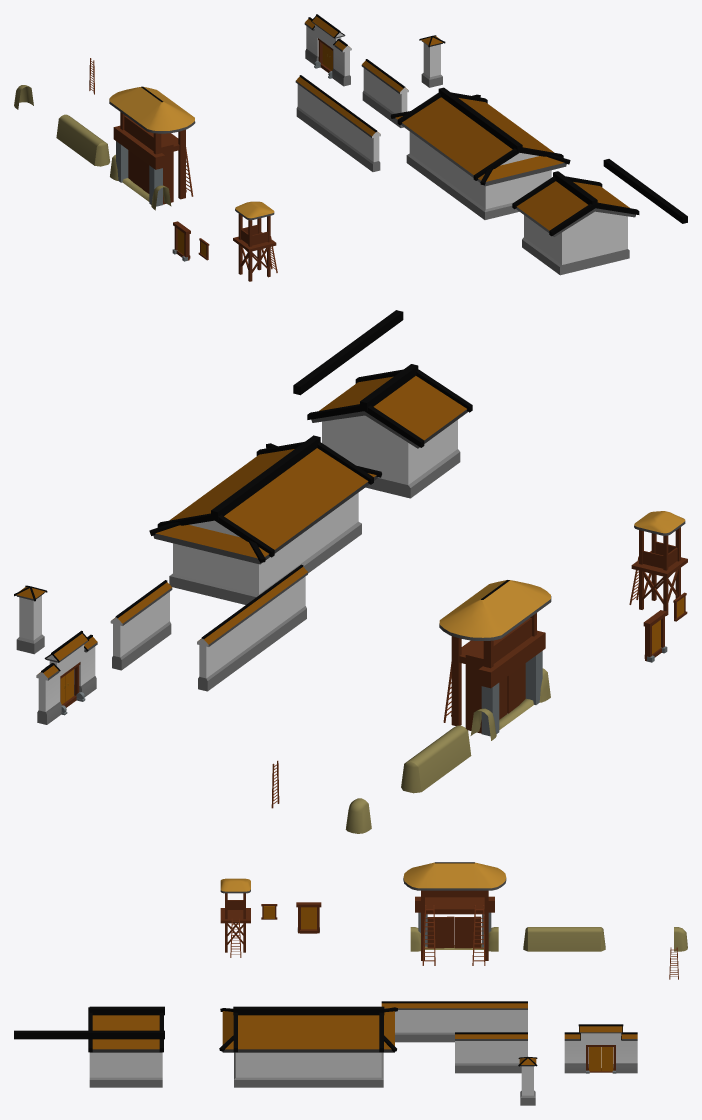
The model's file is BuildingV2.fbx.
3 renders of one model, top to bottom at view 1: azimuth 30°, elevation 25°; view 2: azimuth 150°, elevation 25°; view 3: azimuth 270°, elevation 25°, orthographic. The views are drawn at different scales.
Visible parts, largest first — view 1: pCube124, polySurface1, pCube2, pCube7, pCube24, pCube100, pCube125, pCube18, pCube25, pCube27, pCube23, pCube26 (+3 smaller); view 2: pCube7, polySurface1, pCube2, pCube124, pCube24, pCube100, pCube125, pCube18, pCube25, pCube27, pCube23, pCube12 (+2 smaller); view 3: polySurface1, pCube7, pCube124, pCube24, pCube2, pCube18, pCube125, pCube25, pCube100, pCube27, pCube4, pCube23 (+1 smaller).
Boxes of the visible parts, x1,y1,x2,y2 form: pCube124: [439, 116, 570, 219]; polySurface1: [109, 86, 195, 210]; pCube2: [516, 181, 635, 275]; pCube7: [390, 87, 521, 191]; pCube24: [295, 75, 380, 171]; pCube100: [233, 201, 277, 281]; pCube125: [304, 14, 351, 86]; pCube18: [361, 59, 408, 127]; pCube25: [56, 114, 110, 166]; pCube27: [603, 159, 687, 223]; pCube23: [419, 35, 445, 87]; pCube26: [549, 202, 639, 236]; pCube7: [149, 473, 320, 604]; polySurface1: [439, 580, 551, 740]; pCube2: [311, 376, 467, 498]; pCube124: [212, 435, 381, 570]; pCube24: [197, 564, 307, 691]; pCube100: [629, 511, 687, 615]; pCube125: [36, 630, 97, 724]; pCube18: [110, 580, 172, 670]; pCube25: [401, 725, 471, 793]; pCube27: [293, 310, 403, 395]; pCube23: [14, 585, 47, 654]; pCube12: [307, 404, 424, 447]; polySurface1: [403, 862, 506, 965]; pCube7: [308, 1006, 397, 1087]; pCube124: [219, 1006, 308, 1087]; pCube24: [381, 1001, 527, 1042]; pCube2: [89, 1015, 162, 1087]; pCube18: [455, 1032, 527, 1073]; pCube125: [564, 1024, 637, 1073]; pCube25: [523, 927, 605, 951]; pCube100: [220, 878, 250, 957]; pCube27: [14, 1030, 164, 1039]; pCube4: [89, 1006, 164, 1015]; pCube23: [518, 1057, 537, 1105].
Bounding box in the file's own units: 5.71 × 1.39 × 9.22.
